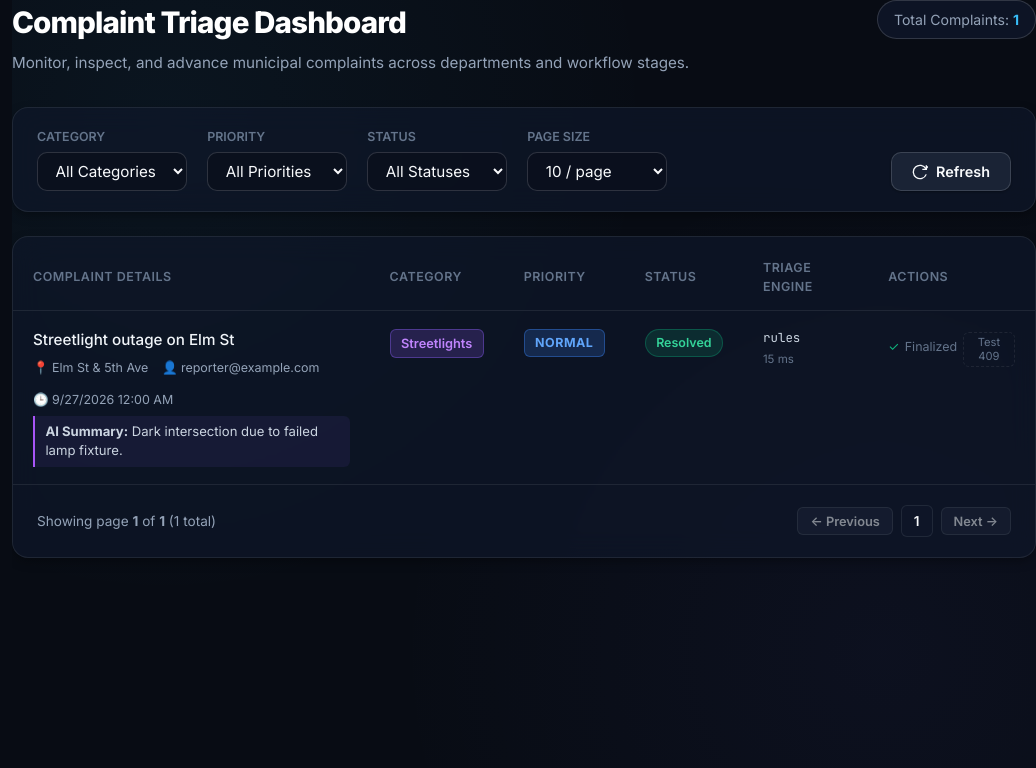
Test: DashboardPage Component › displays server error verbatim when status transition returns 409 Conflict
Click the button titled "Click to verify server returns 409" at (989, 349), box [963,332,1015,367]
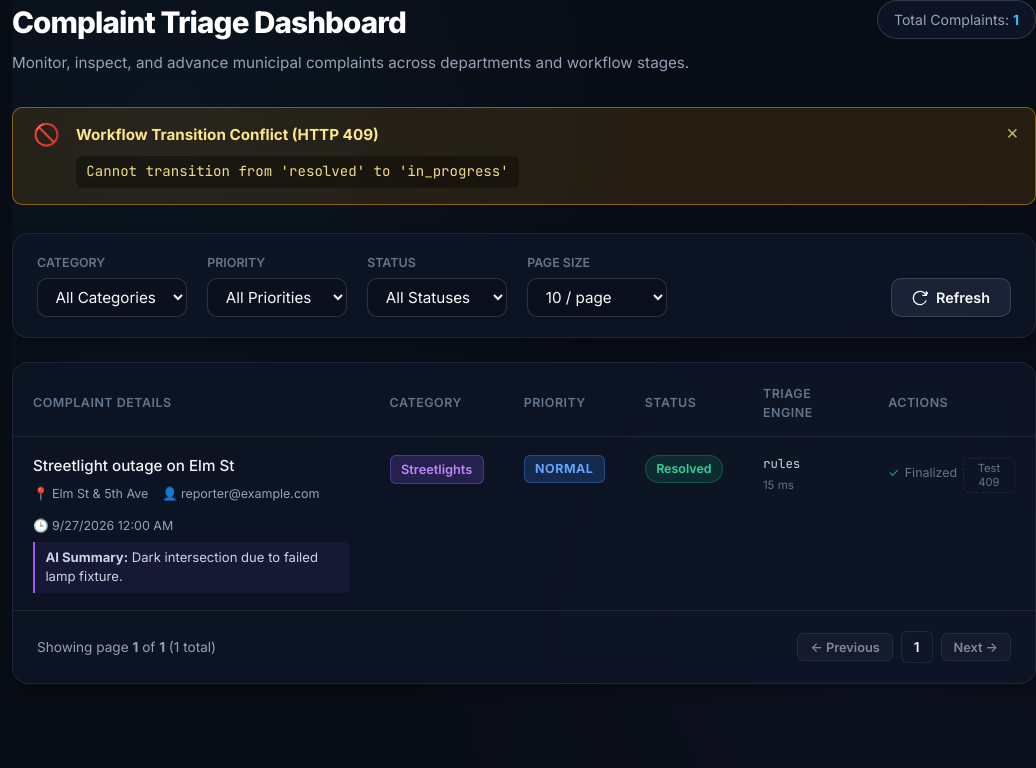
Now the message "🚫 Workflow Transition Conflict (HTTP 409) Cannot transition from 'resolved' to" is shown, box [12,107,1035,205]
Now the text with test id "conflict-detail" reads "Cannot transition from 'resolved' to 'in_progress'", box [86,162,509,180]
